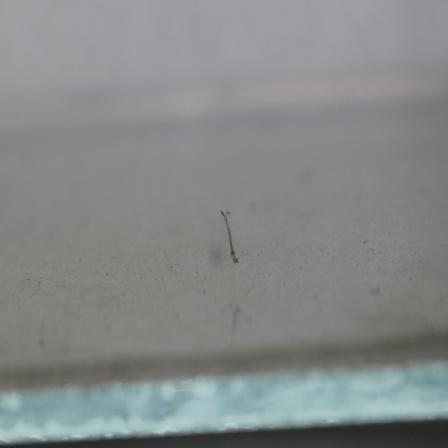Jentik-Nyamuk: (217, 206, 244, 268)
